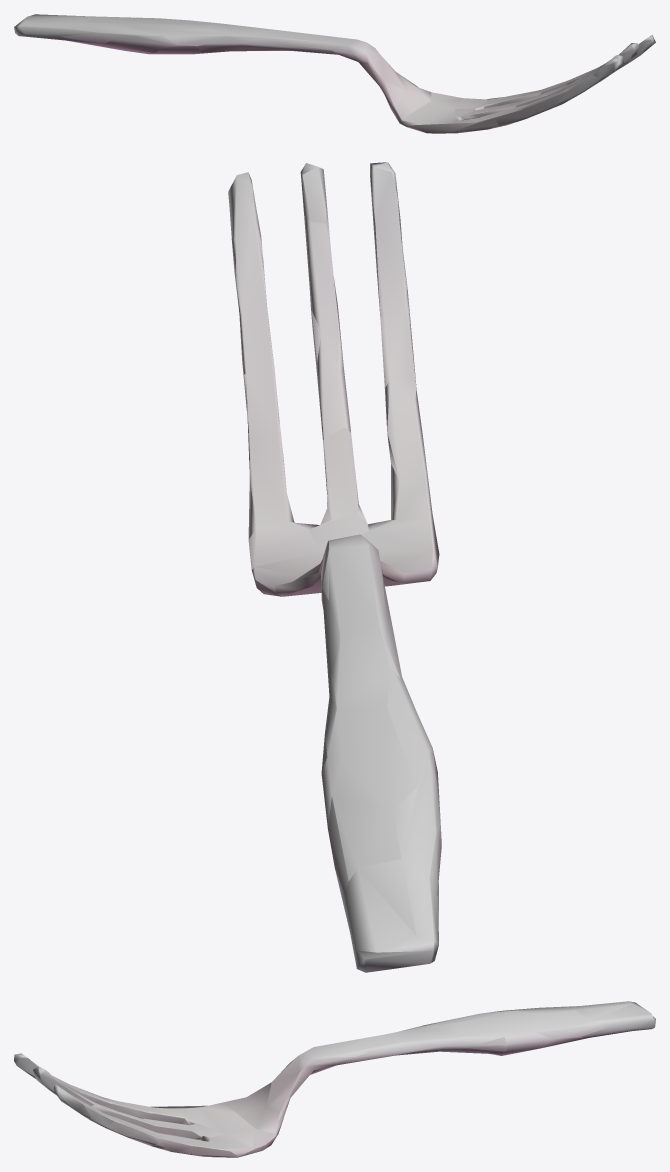
Rendered from 0004_mask_005_fork.glb.
3 renders of one model, top to bottom at view 1: azimuth 30°, elevation 25°; view 2: azimuth 150°, elevation 25°; view 3: azimuth 270°, elevation 25°, orthographic. The views are drawn at different scales.
Parts seen in each view (by area): view 1: mask_005_object; view 2: mask_005_object; view 3: mask_005_object.
Boxes of the visible parts, bbox=[...] form: mask_005_object: bbox=[14, 14, 655, 133]; mask_005_object: bbox=[228, 162, 441, 972]; mask_005_object: bbox=[14, 1001, 655, 1157].
Size of the model in its own units: 0.1849 by 0.0551 by 0.259.
